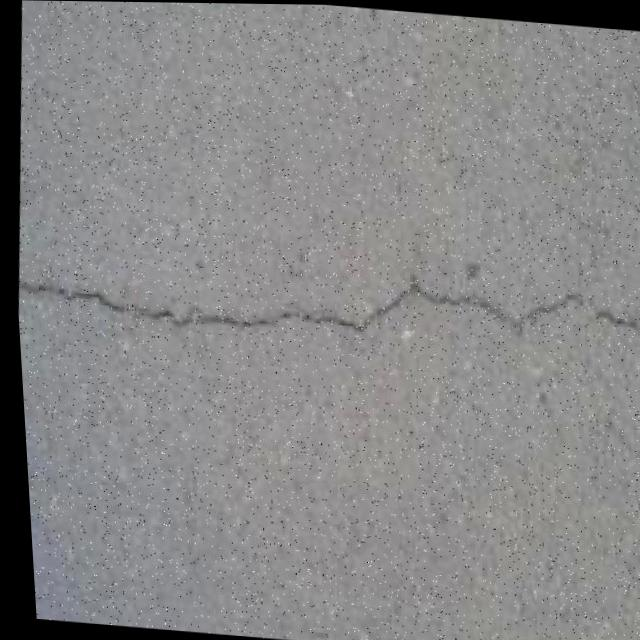Crack: (10, 219, 640, 388)
